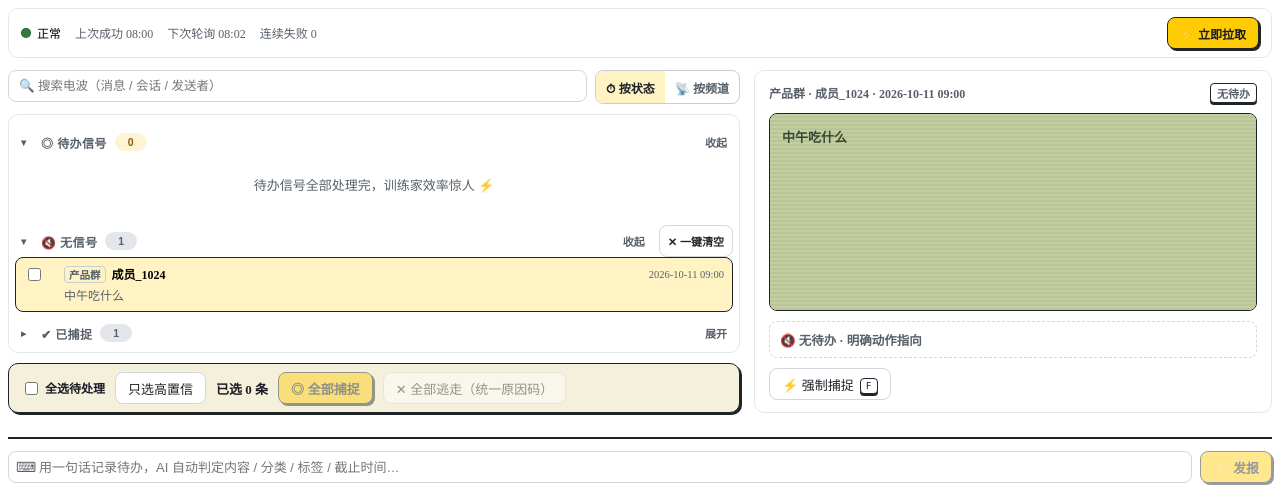
Test: 待办信号组空态（桌面 .pending-empty parity） › 空态组同样可折叠：折叠即卸载空态文案，再点恢复
The image size is (1280, 502).
What coordinates should you click on to do the following:
click the text "◎ 待办信号"
I would click on:
 (74, 142)
Its box is top-left (41, 134), bottom-right (107, 150).
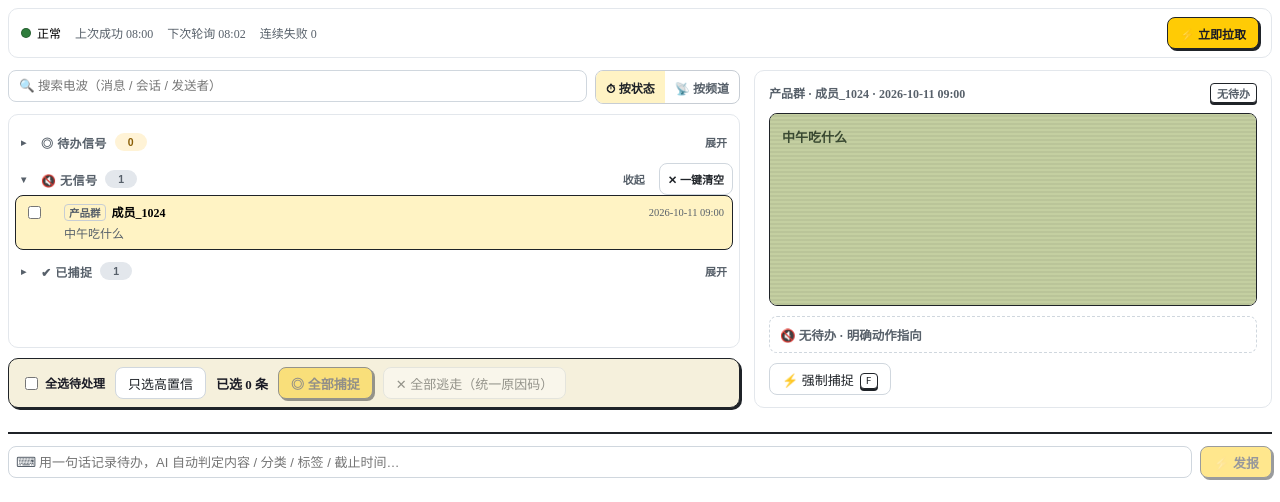
expect the text with test id "pending-empty" is gone: met
What coordinates should you click on to do the following:
click the text "◎ 待办信号"
I would click on:
 (74, 142)
Its box is top-left (41, 134), bottom-right (107, 150).
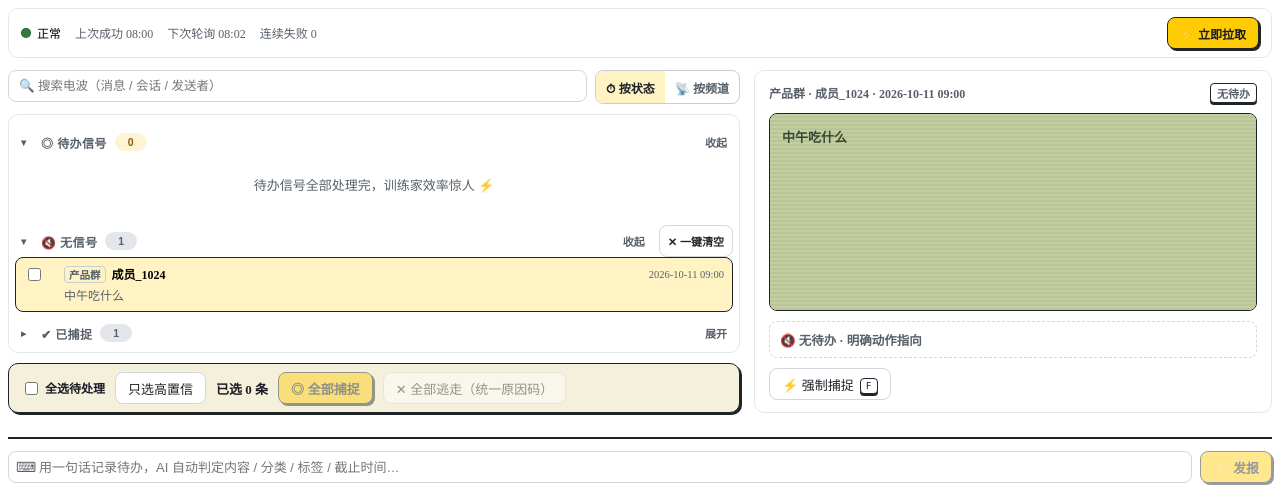
expect the text "待办信号全部处理完，训练家效率惊人 ⚡" is shown: met, box top-left (254, 178), bottom-right (494, 193)
